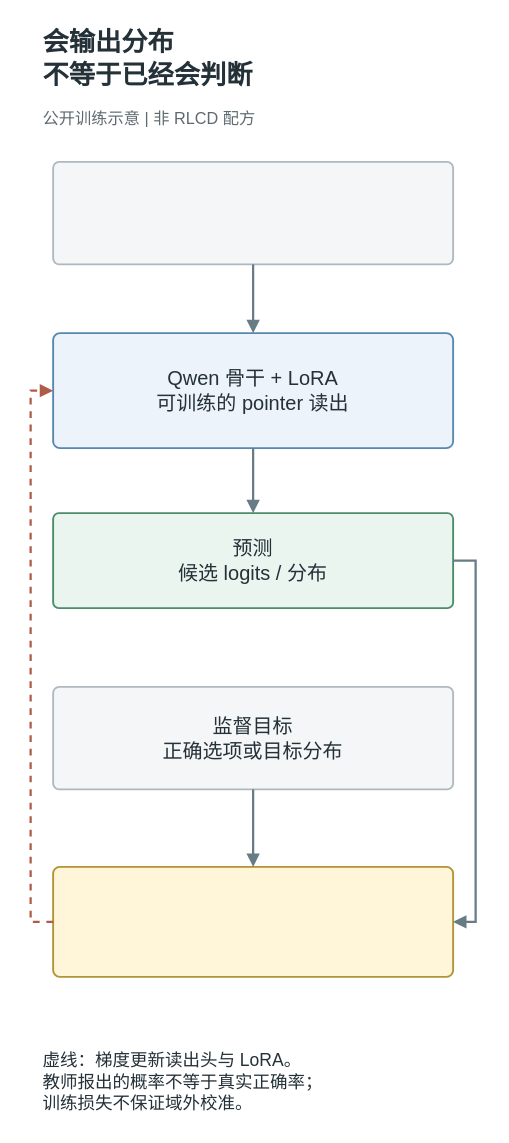
The diagram is 509 pixels wide and 1143 high, and some of its shapes have lost their labels. The centre of each missing label's shape, as x and y in pixels:
"损失 交叉熵 / 软目标分布匹配" goes at [253,921].
"状态 / 规则 / 候选 改变规则，答案可能翻转" goes at [253,212].
